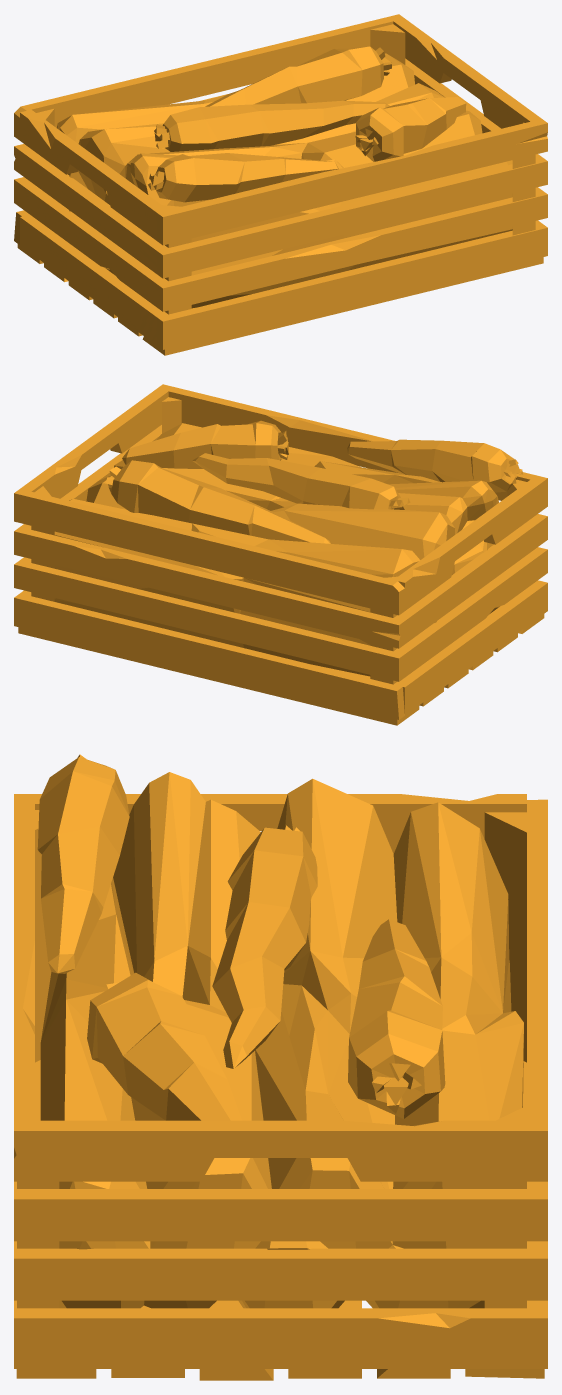
File: SM_Crate_Wood_Medium_Carrots.fbx
The picture shows the model from 3 angles, top to bottom: view 1: azimuth 30°, elevation 25°; view 2: azimuth 150°, elevation 25°; view 3: azimuth 270°, elevation 25°; orthographic projection. The views are drawn at different scales.
Visible parts, largest first — view 1: crate-wood-medium-carrots; view 2: crate-wood-medium-carrots; view 3: crate-wood-medium-carrots.
Boxes of the visible parts, x1,y1,x2,y2 form: crate-wood-medium-carrots: [14, 14, 547, 355]; crate-wood-medium-carrots: [14, 384, 547, 725]; crate-wood-medium-carrots: [14, 754, 547, 1380].
Size of the model in its own units: 0.6067 by 0.2642 by 0.4063.
